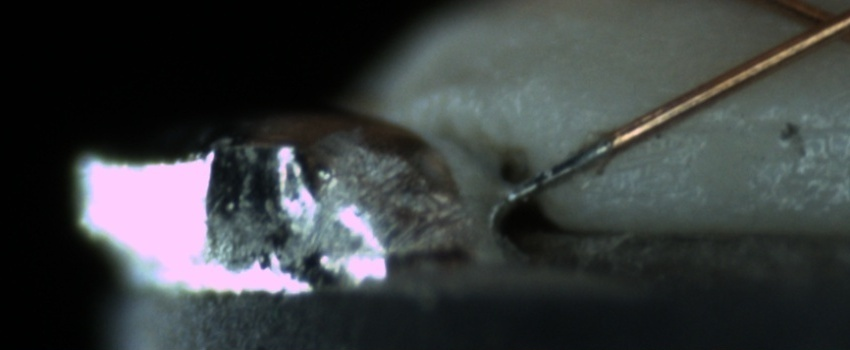CL: (776, 1, 850, 56)
DL: (672, 95, 849, 156)
TS: (507, 137, 617, 200)
TTCW: (505, 114, 652, 202)
